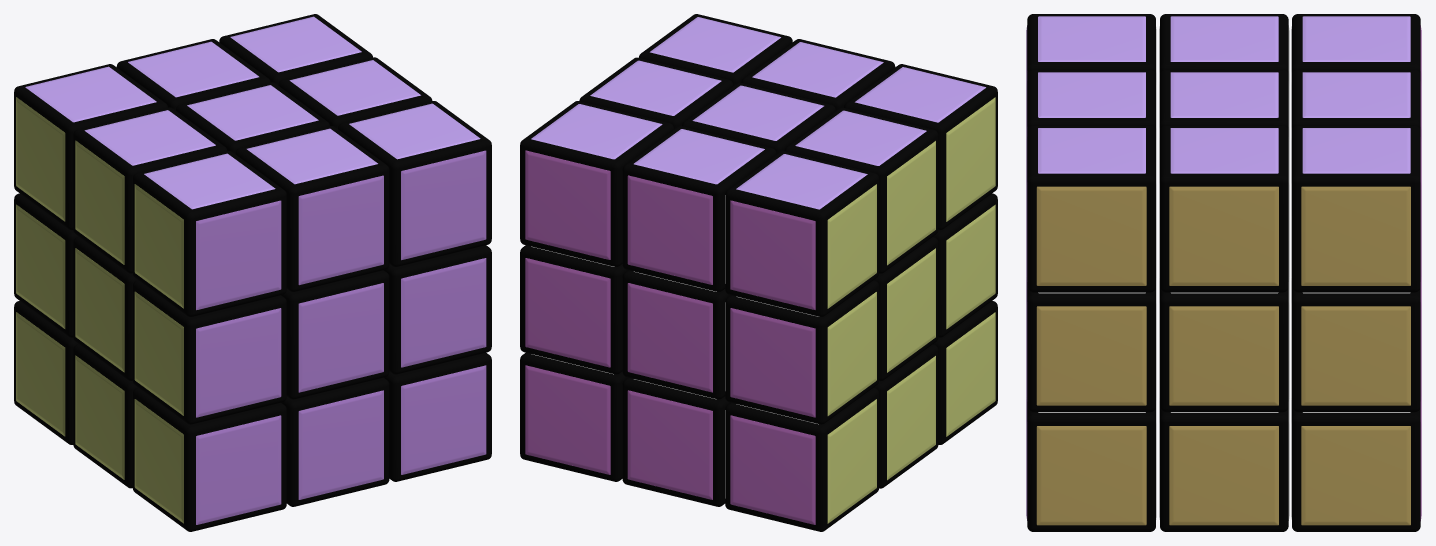
The model's file is suka.gltf.
The picture shows the model from 3 angles, left to right: view 1: azimuth 30°, elevation 25°; view 2: azimuth 150°, elevation 25°; view 3: azimuth 270°, elevation 25°; orthographic projection. The views are drawn at different scales.
Visible parts, largest first — view 1: Plane007, Plane124, Plane115, Plane103, Plane100, Plane091, Plane112, Plane004, Plane016, Cube021, Cube020, Cube019 (+34 smaller); view 2: Plane161, Plane149, Plane066, Plane065, Plane054, Plane042, Plane041, Plane053, Plane150, Cube027, Cube025, Cube026 (+34 smaller); view 3: Plane107, Plane108, Plane, Plane072, Plane071, Plane144, Plane143, Plane036, Plane035, Cube025, Cube024, Cube019 (+21 smaller).
Part boxes in pixels (box(x1,y1,x2,y2)): Plane007: box(298, 390, 383, 499); Plane124: box(196, 200, 281, 310); Plane115: box(298, 175, 383, 285); Plane103: box(401, 258, 486, 367); Plane100: box(298, 283, 383, 392); Plane091: box(196, 308, 281, 417); Plane112: box(401, 150, 486, 260); Plane004: box(401, 365, 486, 474); Plane016: box(196, 415, 281, 524); Cube021: box(133, 151, 286, 316); Cube020: box(235, 126, 389, 291); Cube019: box(338, 101, 491, 266); Plane161: box(730, 200, 815, 309); Plane149: box(525, 150, 610, 259); Plane066: box(525, 258, 610, 367); Plane065: box(627, 283, 712, 392); Plane054: box(730, 308, 815, 417); Plane042: box(627, 390, 712, 499); Plane041: box(525, 365, 610, 474); Plane053: box(730, 415, 815, 524); Plane150: box(627, 175, 712, 284); Cube027: box(725, 151, 878, 316); Cube025: box(520, 101, 673, 266); Cube026: box(622, 126, 776, 291); Plane107: box(1036, 306, 1146, 405); Plane108: box(1036, 186, 1146, 285); Plane: box(1036, 426, 1146, 525); Plane072: box(1169, 306, 1278, 405); Plane071: box(1301, 306, 1410, 405); Plane144: box(1301, 186, 1410, 285); Plane143: box(1169, 186, 1278, 285); Plane036: box(1301, 426, 1410, 525); Plane035: box(1169, 426, 1278, 525); Cube025: box(1292, 125, 1420, 292); Cube024: box(1160, 125, 1288, 292); Cube019: box(1027, 125, 1155, 292).
Bounding box in the file's own units: 5.98 × 5.97 × 5.99.
